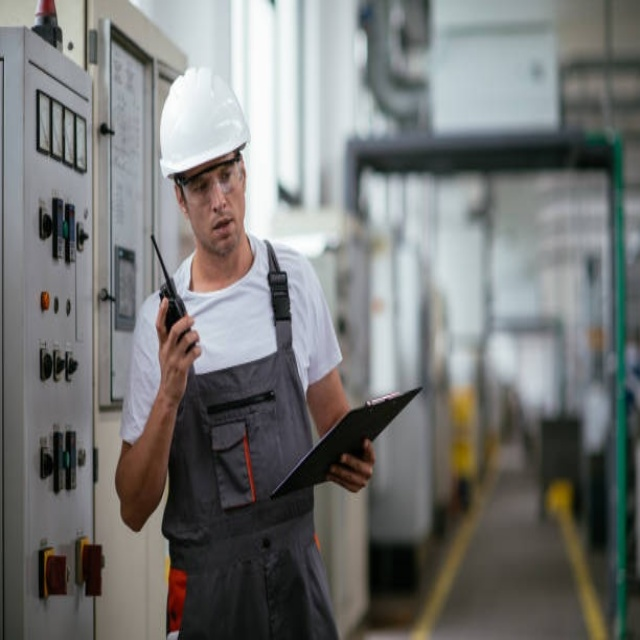Gafas: (179, 155, 243, 206)
Sin_guantes: (154, 296, 203, 404), (327, 435, 375, 494)
Sin_mascara: (208, 209, 238, 246)
